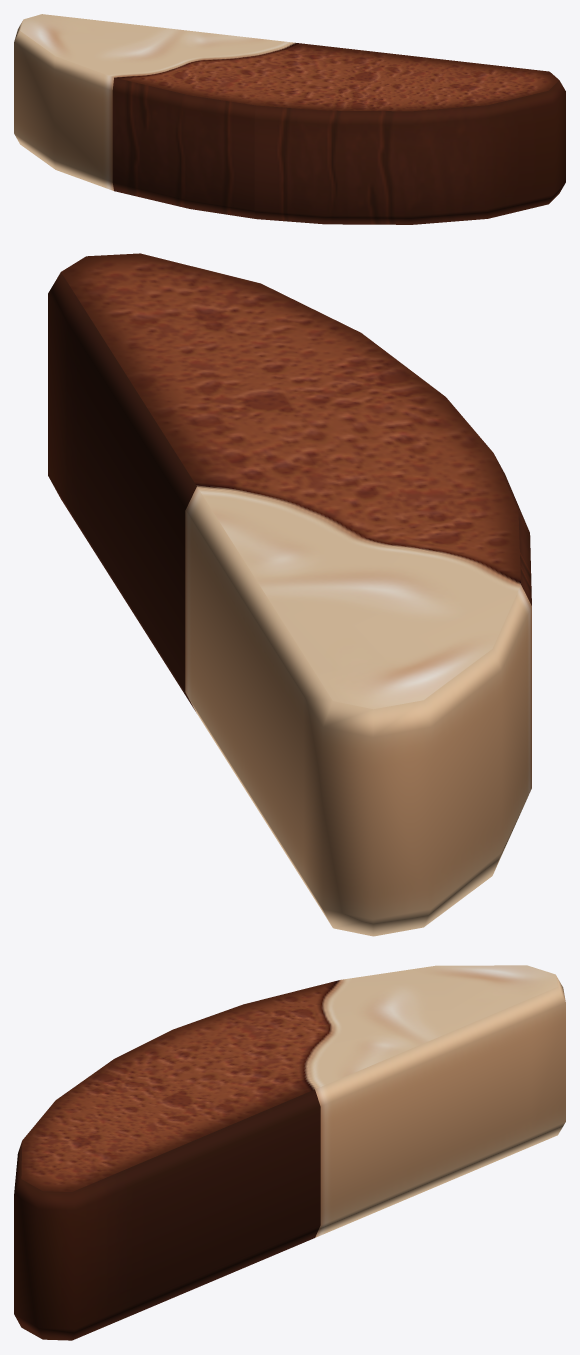
The model's file is 007-Biscotti_04.FBX.
3 views of the same model, one above another, from view 1: azimuth 30°, elevation 25°; view 2: azimuth 150°, elevation 25°; view 3: azimuth 270°, elevation 25° (orthographic). The views are drawn at different scales.
Parts seen in each view (by area): view 1: 007-Biscotti_04; view 2: 007-Biscotti_04; view 3: 007-Biscotti_04.
Boxes of the visible parts, x1=… form: 007-Biscotti_04: x1=14, y1=14, x2=565, y2=224; 007-Biscotti_04: x1=48, y1=253, x2=531, y2=936; 007-Biscotti_04: x1=14, y1=965, x2=565, y2=1340.
Size of the model in its own units: 16.22 by 4.82 by 16.22.
